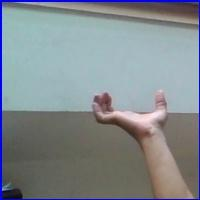space: (80, 77, 176, 150)
